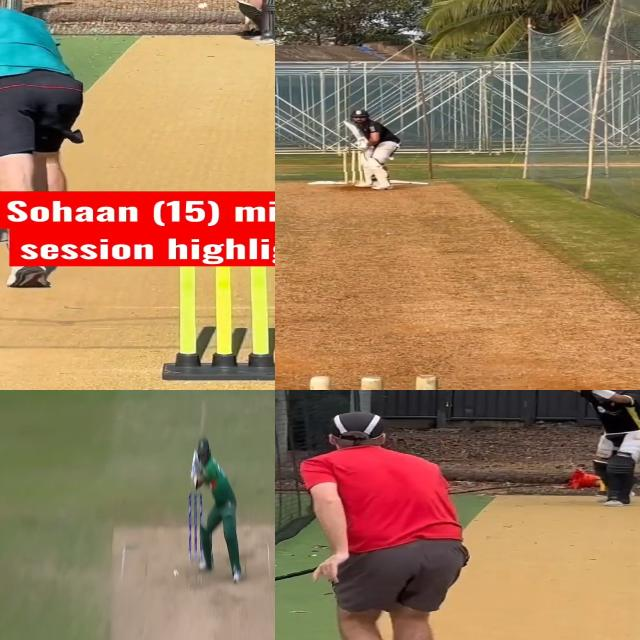Cricket ball: (196, 2, 210, 10), (173, 568, 179, 578)
Stumps: (188, 491, 203, 568), (339, 149, 364, 185)
